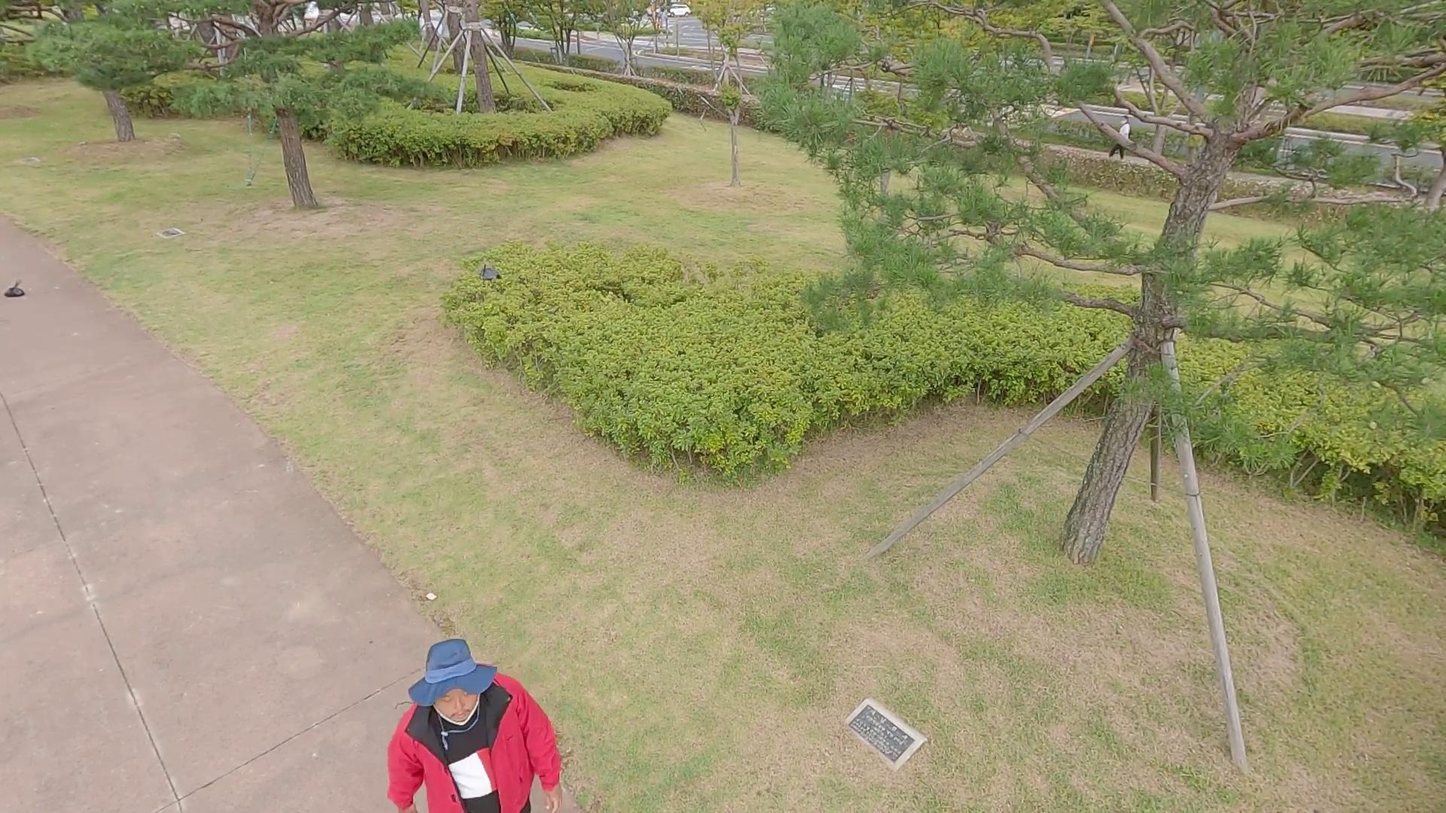person: (386, 634, 571, 813)
trash: (6, 275, 25, 301), (480, 266, 503, 283)
